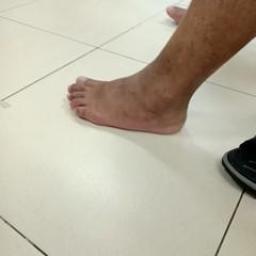Lateral View -Left Foot-: (60, 57, 202, 146)
